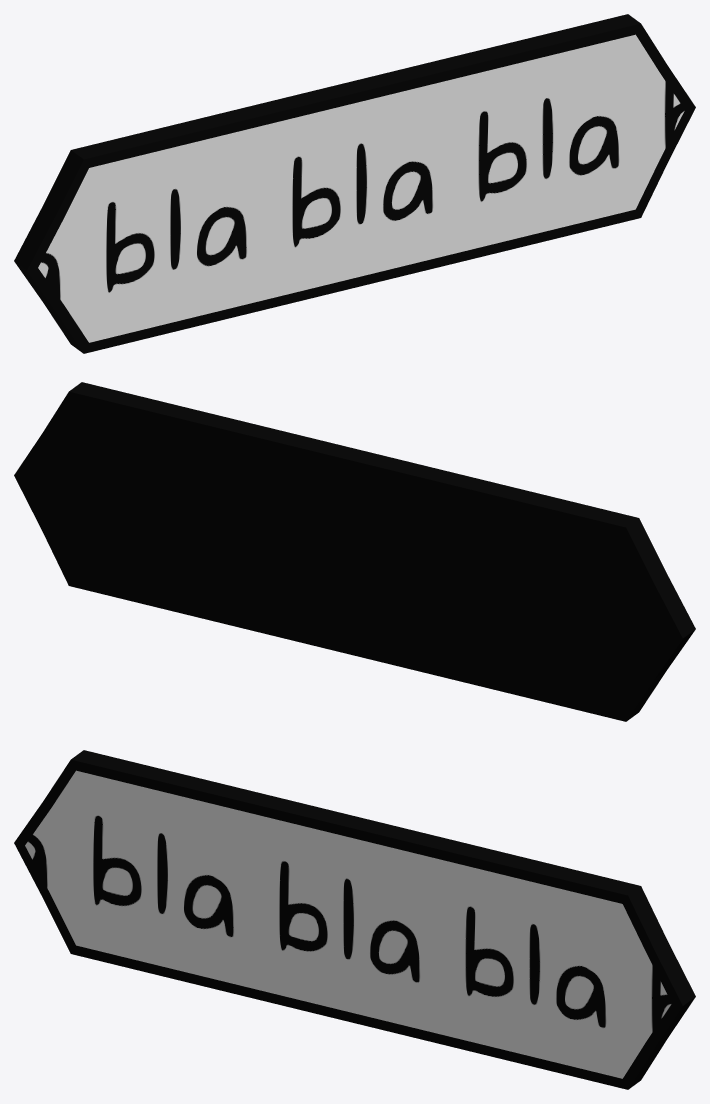
Rendered from mdl_poland_poempieces_12.gltf.
3 views of the same model, one above another, from view 1: azimuth 30°, elevation 25°; view 2: azimuth 150°, elevation 25°; view 3: azimuth 330°, elevation 25° (orthographic).
Visible parts, largest first — view 1: Plane.014; view 2: Plane.014; view 3: Plane.014.
Part boxes in pixels (left/top/right/bottom): Plane.014: left=14, top=14, right=695, bottom=353; Plane.014: left=14, top=382, right=695, bottom=721; Plane.014: left=14, top=750, right=695, bottom=1089.
Bounding box in the file's own units: 0.9003 × 0.25 × 0.0304.
Materials: 2 (2 with a texture image).
